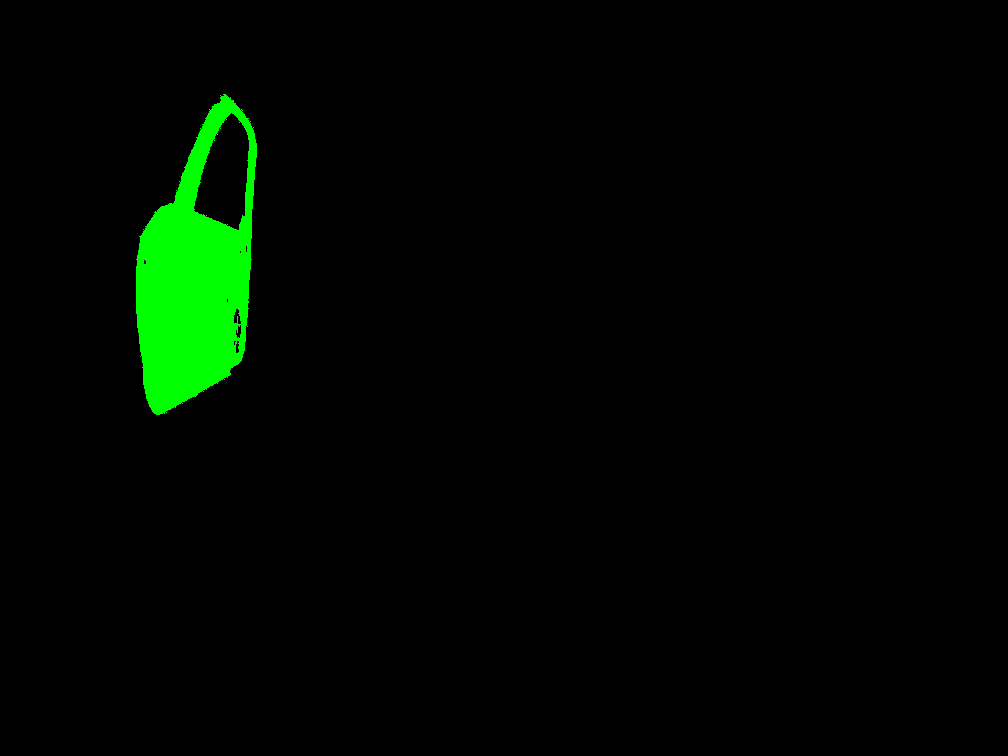car_door: (136, 94, 256, 414)
